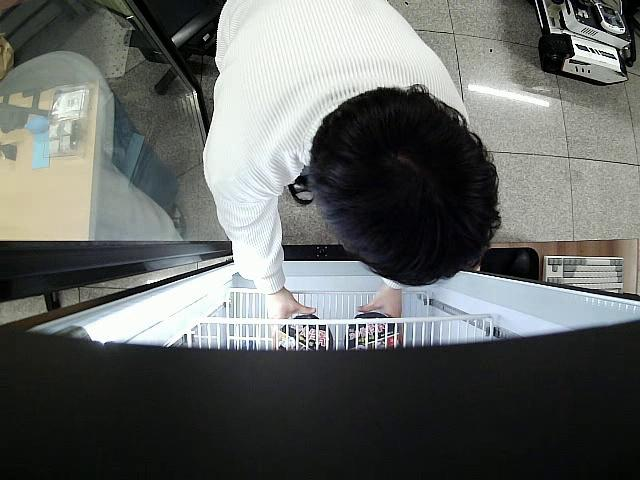00_hand: (262, 291, 316, 325), (354, 286, 403, 318)
07_buldak_L: (272, 311, 333, 356), (346, 312, 405, 352)
